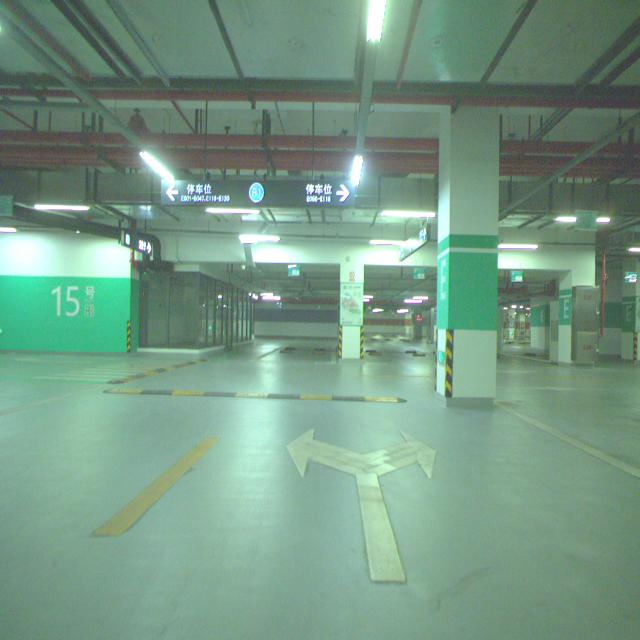pillar: (436, 108, 499, 406), (558, 247, 595, 362)
